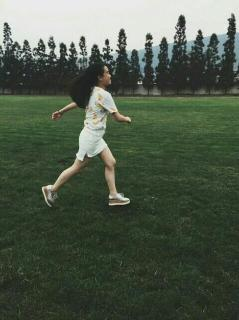short sleeve top: (84, 85, 118, 130)
skirt: (76, 126, 108, 161)
